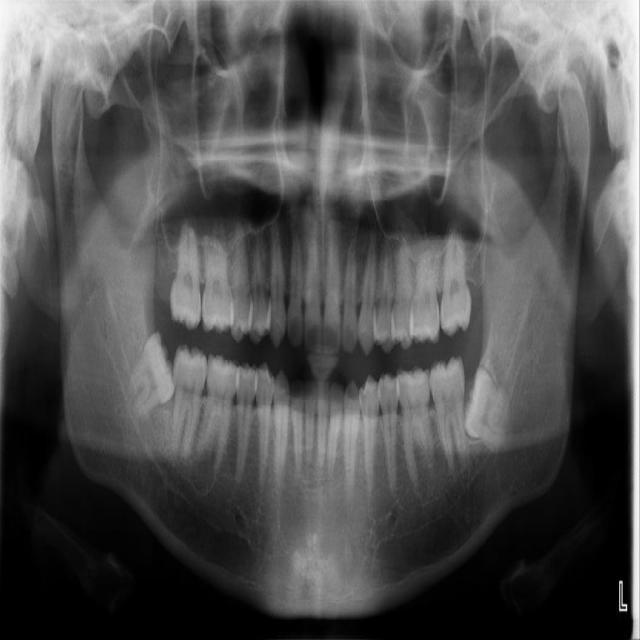73: (573, 519, 578, 523)
BioHorizons Implant: (439, 217, 475, 339)
Biomet 3i Implant: (454, 365, 524, 454)
Blue Sky Bio Implant: (429, 356, 468, 473)
Caries: (170, 218, 201, 331)
Implant: (162, 343, 210, 462)
Keystone Dental Implant: (109, 329, 187, 421)
